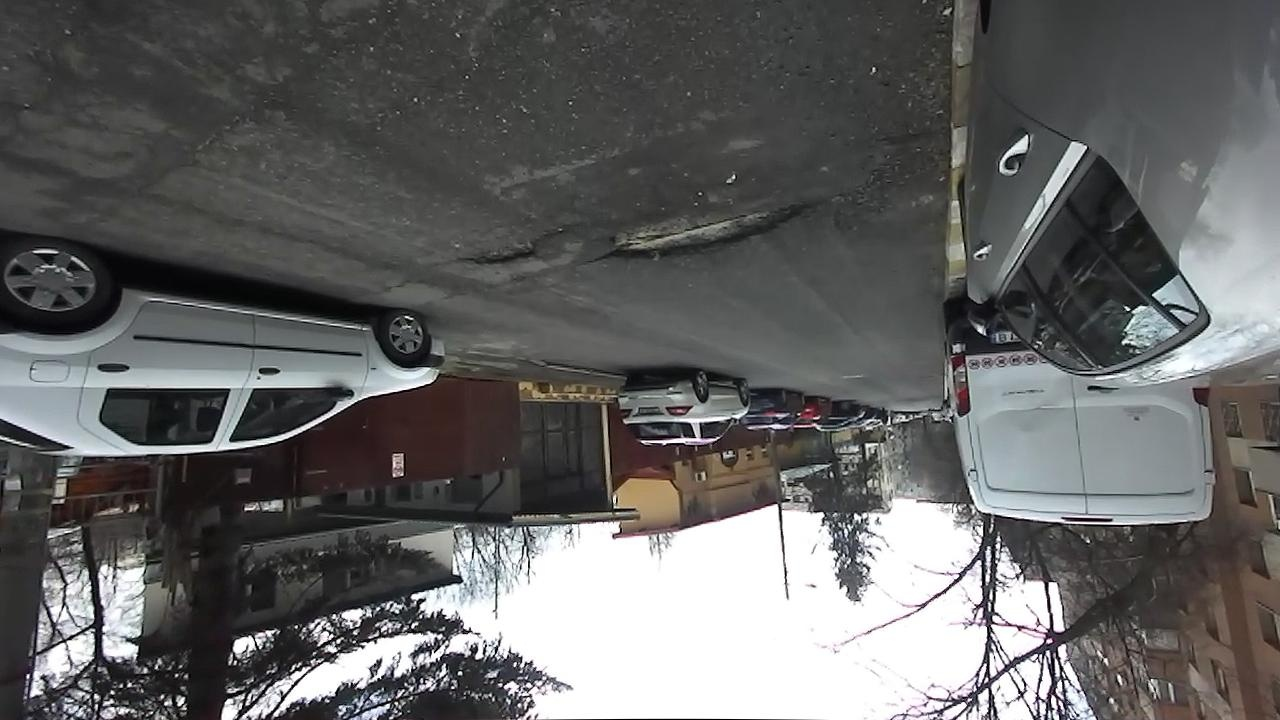pothole: (582, 187, 836, 270), (449, 227, 566, 269)
